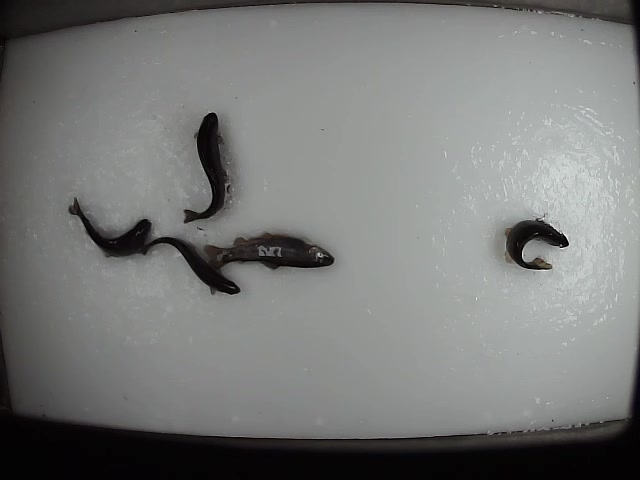Fish: (137, 236, 241, 296), (203, 232, 335, 272), (183, 110, 228, 226), (68, 197, 152, 258), (504, 218, 569, 270)
